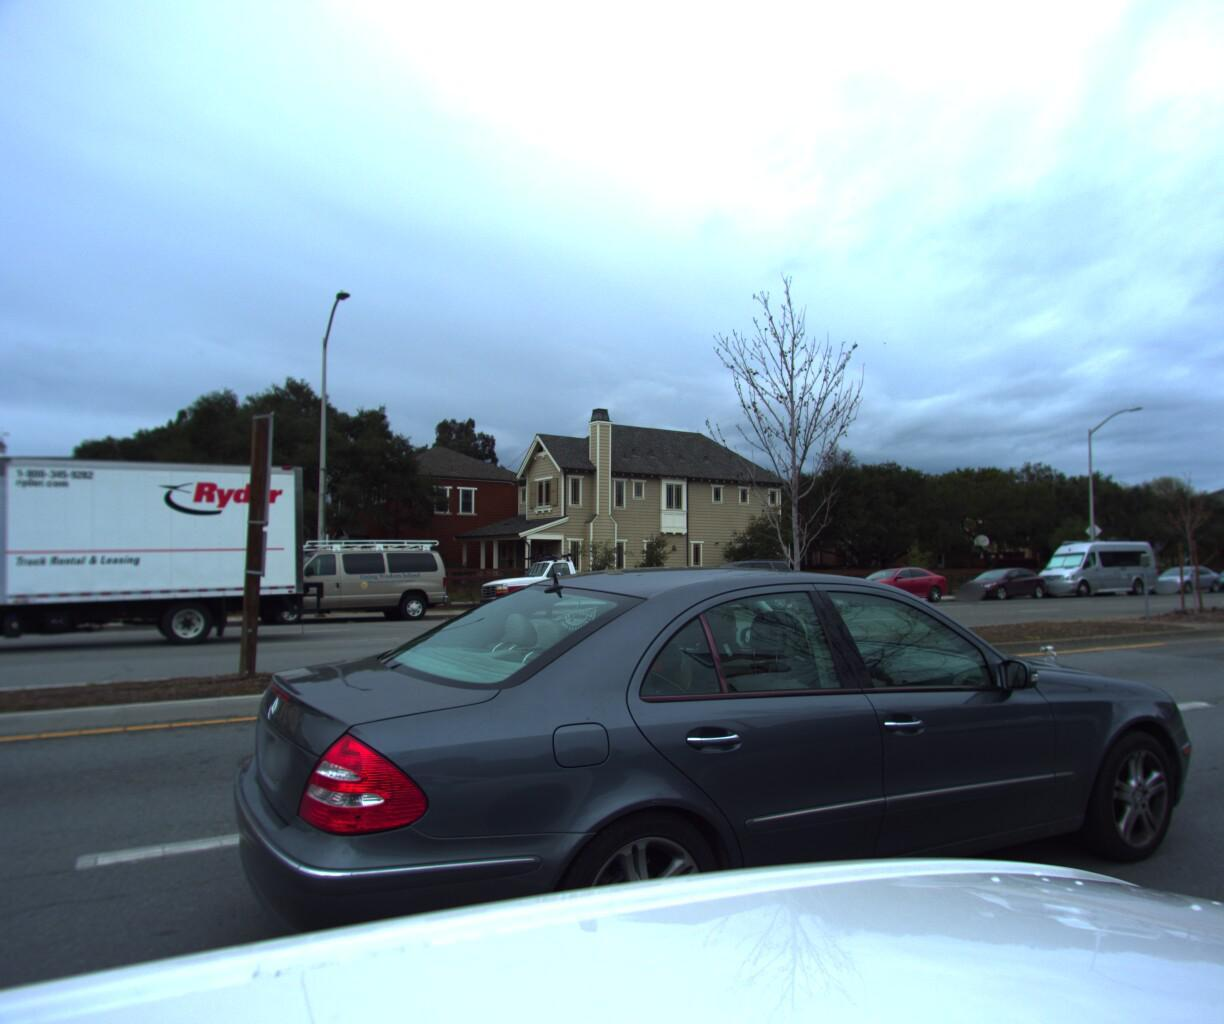car: (244, 556, 1224, 1024), (227, 530, 457, 626), (465, 547, 656, 617), (1018, 529, 1164, 594), (663, 553, 811, 610), (827, 561, 955, 603), (951, 561, 1057, 598), (1137, 559, 1223, 590), (1192, 554, 1224, 589)
truck: (0, 438, 325, 668)
